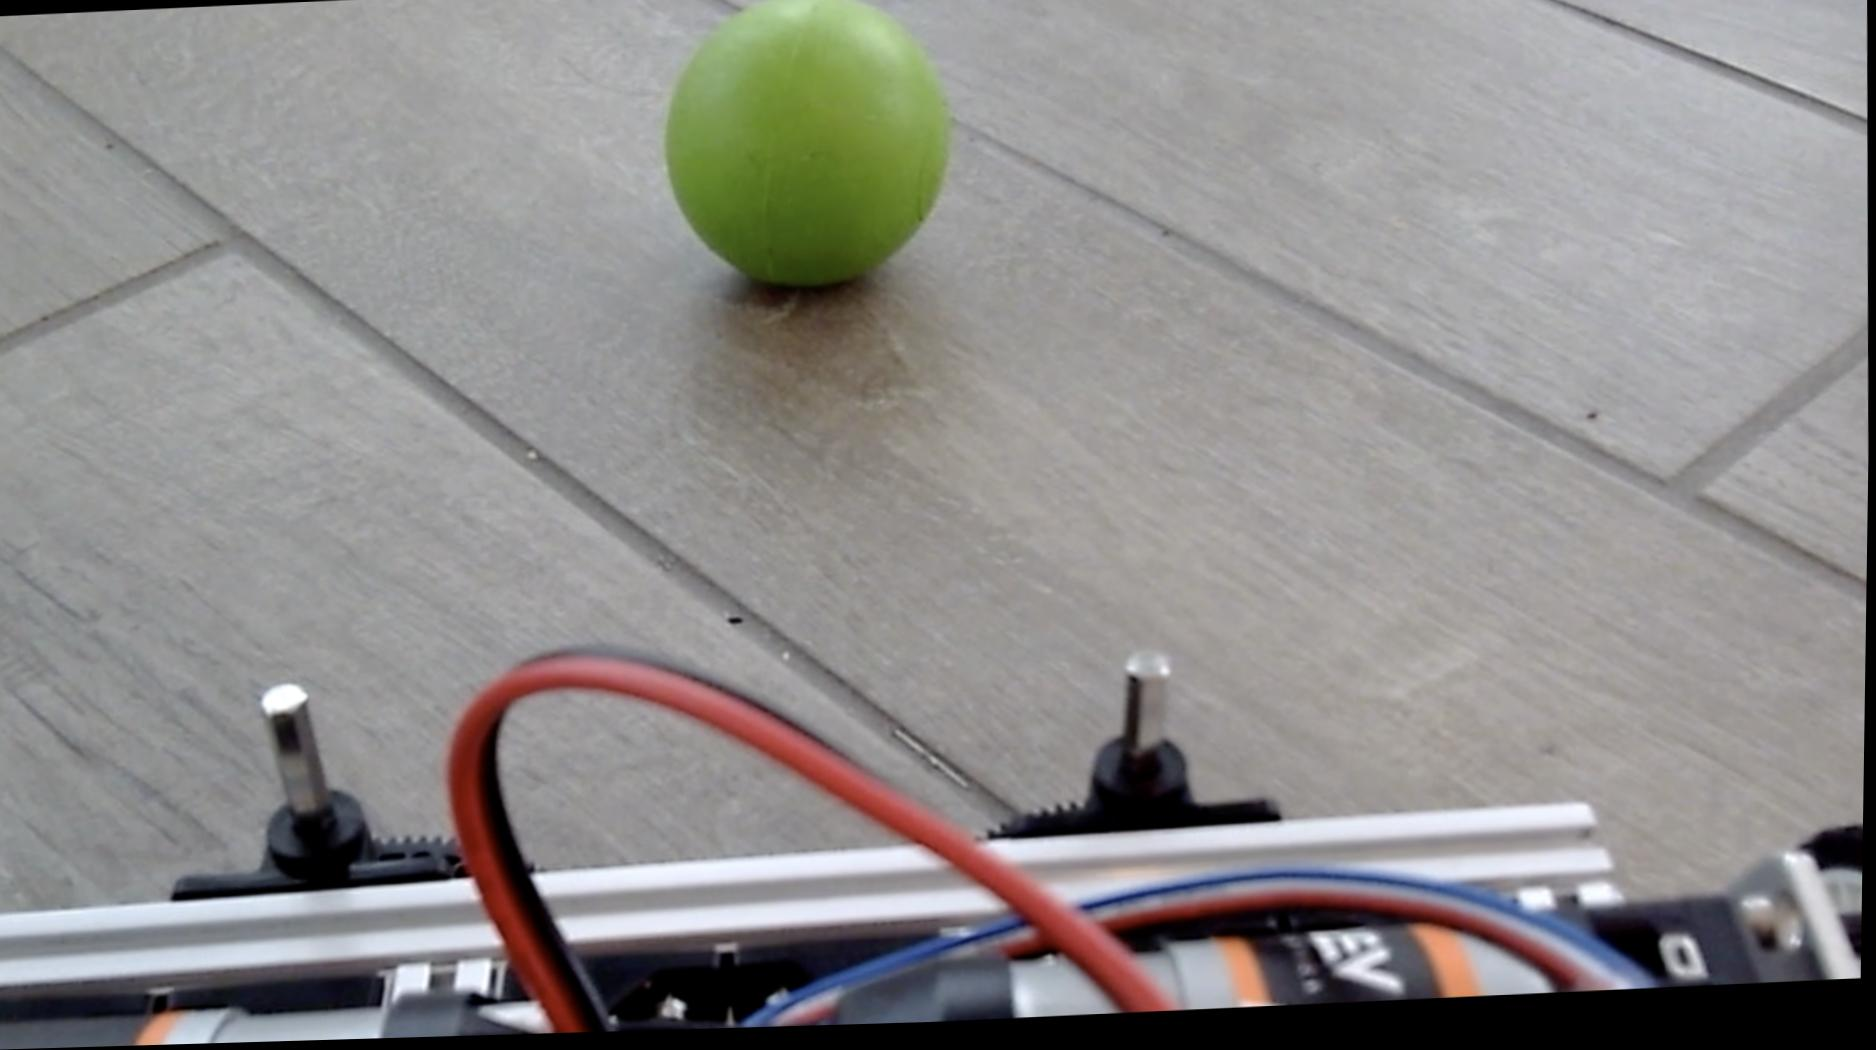greenball: (656, 0, 957, 303)
